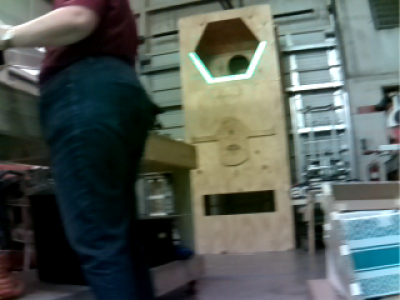target: (187, 41, 269, 84)
